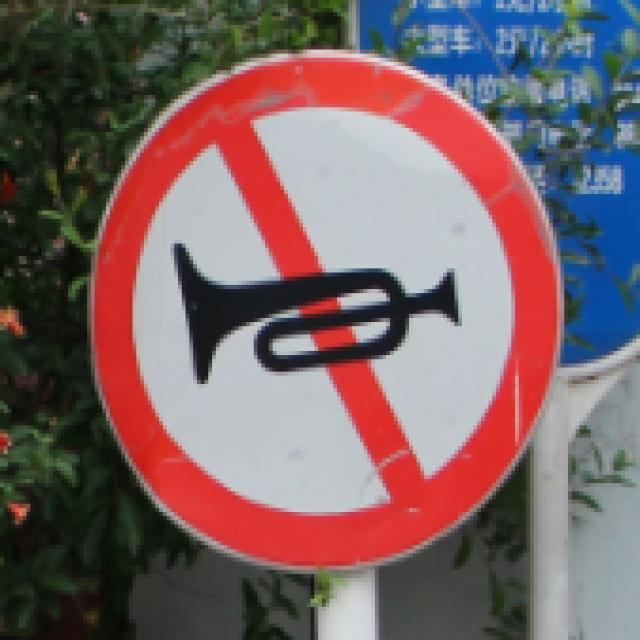No Horn: (97, 53, 569, 564)
